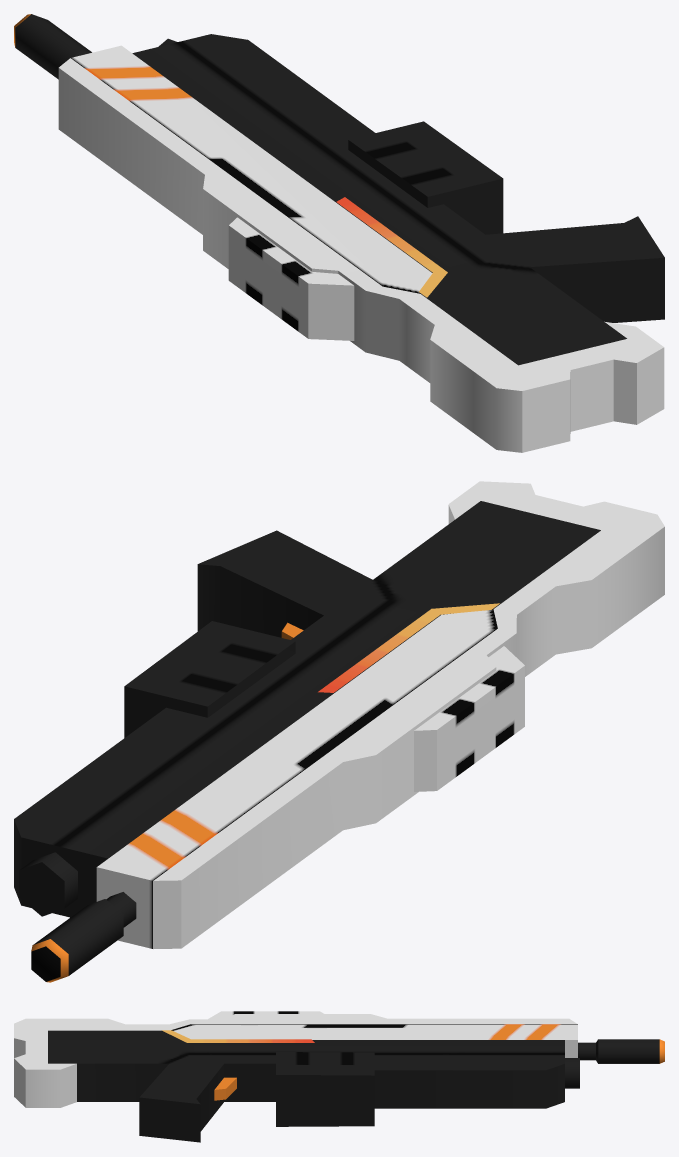
The model's file is techsoldier.glb.
3 renders of one model, top to bottom at view 1: azimuth 30°, elevation 25°; view 2: azimuth 150°, elevation 25°; view 3: azimuth 270°, elevation 25°, orthographic. The views are drawn at different scales.
Visible parts, largest first — view 1: TechSoldier_Decagram_AR_Weapon; view 2: TechSoldier_Decagram_AR_Weapon; view 3: TechSoldier_Decagram_AR_Weapon.
Boxes of the visible parts, left/top/right/bottom form: TechSoldier_Decagram_AR_Weapon: left=14, top=14, right=664, bottom=452; TechSoldier_Decagram_AR_Weapon: left=14, top=481, right=664, bottom=982; TechSoldier_Decagram_AR_Weapon: left=14, top=1011, right=664, bottom=1142.
Bounding box in the file's own units: 0.2367 × 0.0606 × 0.6866.
1 material, 1 textured.
